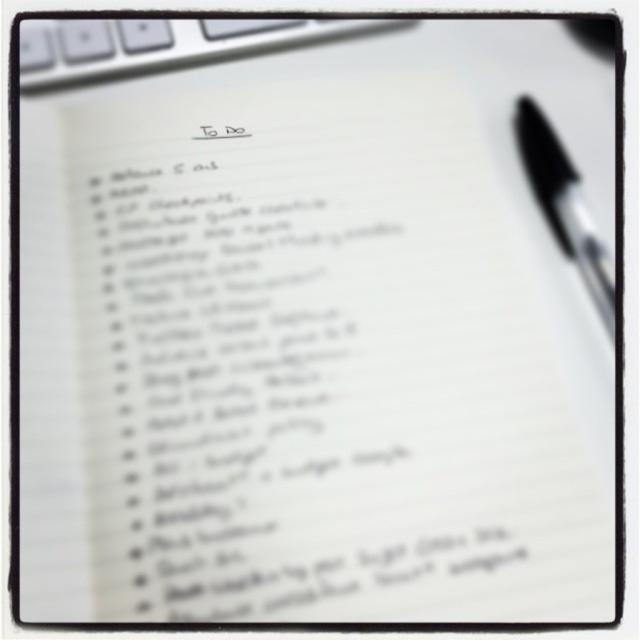pen: (507, 92, 612, 347)
